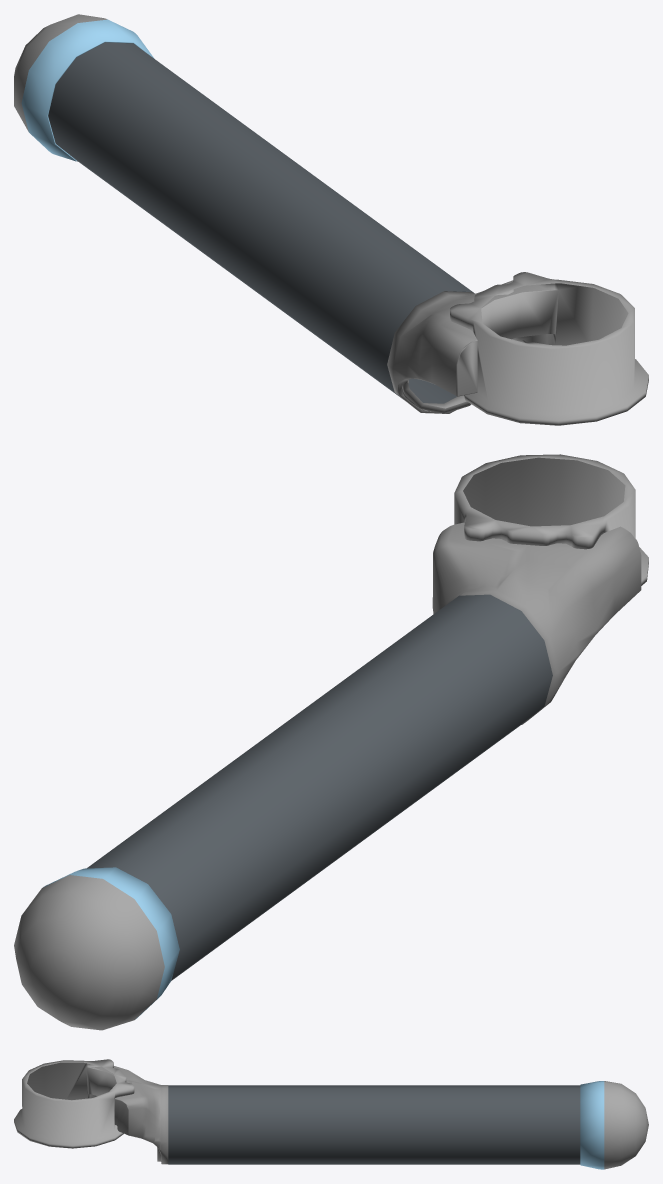
File: RIGHT_ELBOW_PITCH_LINK_413mm_LENGTH.obj
3 views of the same model, one above another, from view 1: azimuth 30°, elevation 25°; view 2: azimuth 150°, elevation 25°; view 3: azimuth 270°, elevation 25° (orthographic). The views are drawn at different scales.
Bounding box in the file's own units: 0.0885 × 0.0734 × 0.4542.
